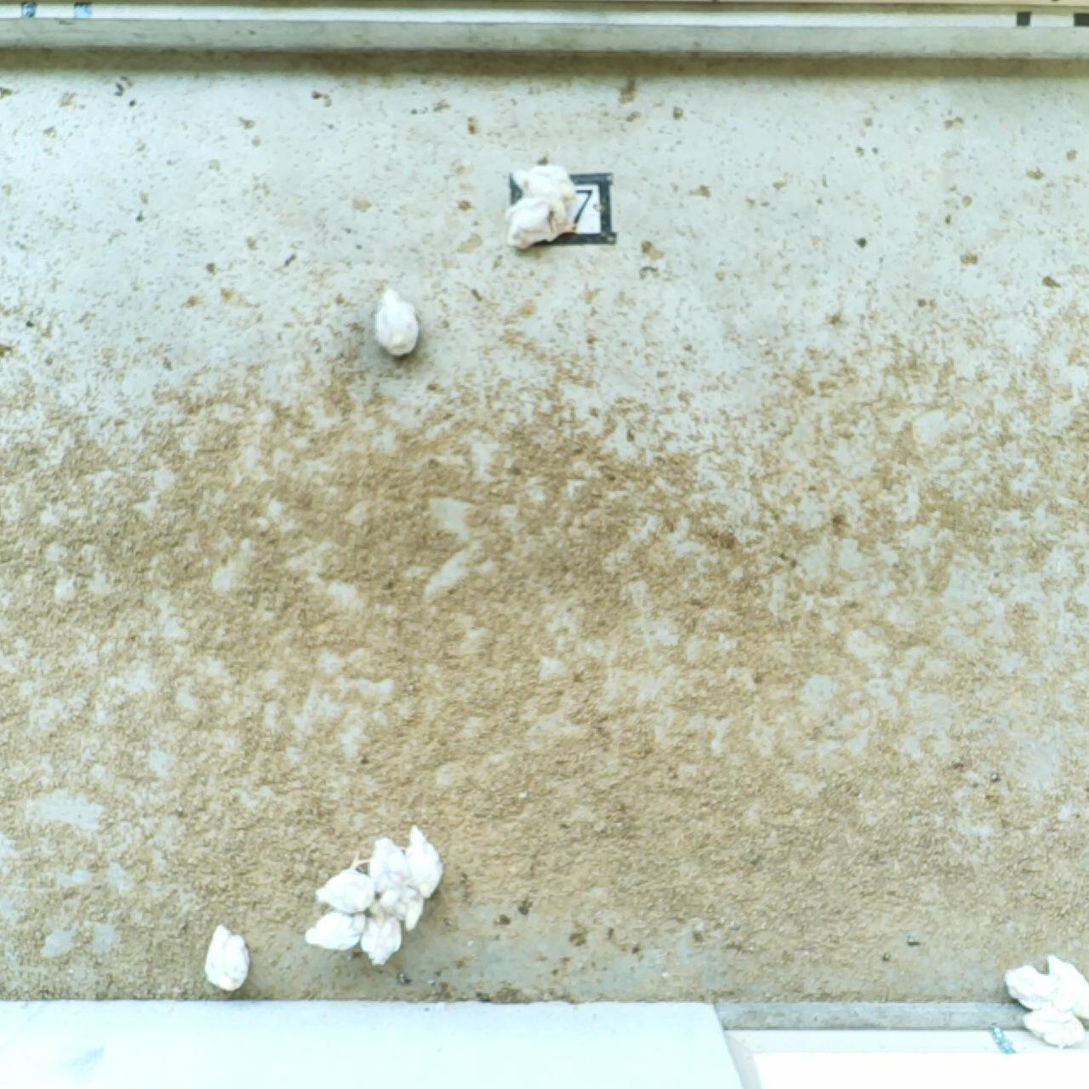chicken: (505, 197, 577, 251), (316, 849, 373, 913), (376, 285, 420, 357), (509, 164, 576, 210), (1004, 964, 1067, 1012), (204, 924, 248, 991), (405, 825, 443, 898), (305, 909, 367, 953), (1049, 955, 1089, 1019), (1024, 1007, 1086, 1048), (368, 837, 409, 893), (378, 886, 425, 932), (360, 918, 400, 965)
